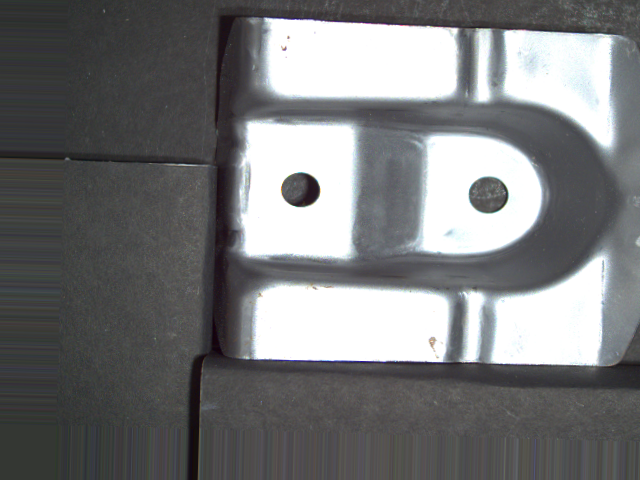defect: (465, 171, 513, 218)
